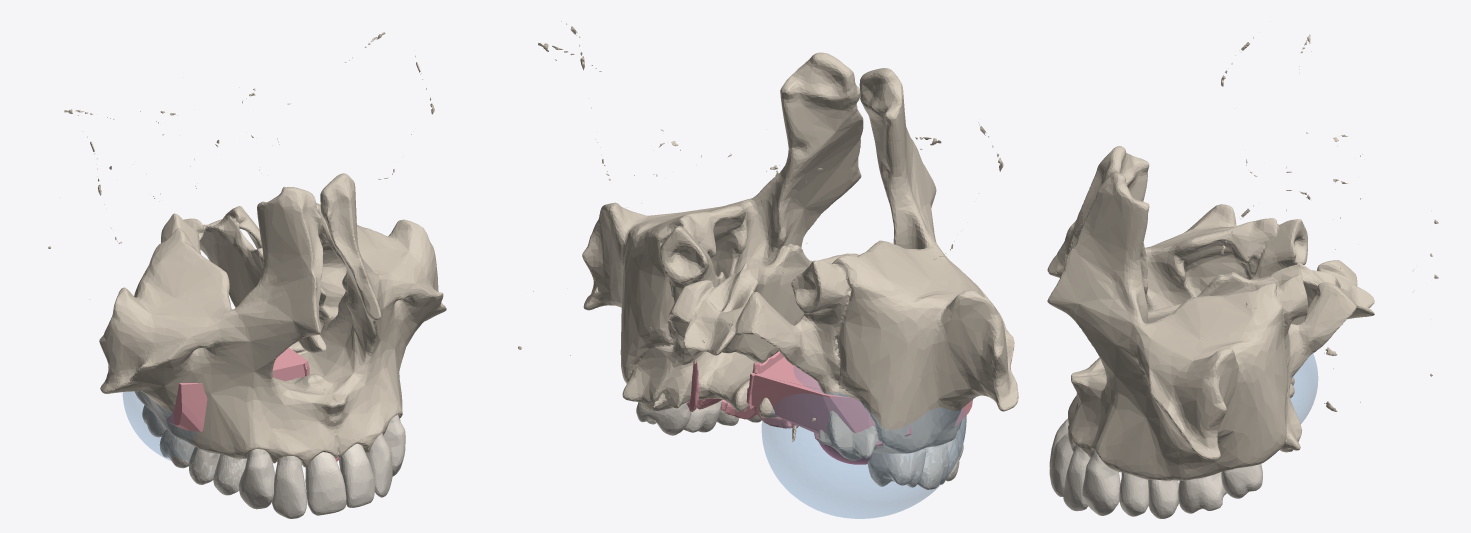
File: mec.glb
3 views of the same model, side by side, from view 1: azimuth 30°, elevation 25°; view 2: azimuth 150°, elevation 25°; view 3: azimuth 270°, elevation 25° (orthographic). The views are drawn at different scales.
Parts seen in each view (by area): view 1: bone, teeth, specimen_bone, margin, obturator, specimen_teeth, obturator_teeth, extracted_teeth; view 2: bone, margin, specimen_bone, obturator, specimen_teeth, teeth, obturator_teeth, sphenoid; view 3: bone, teeth, margin, sphenoid.
Part boxes in pixels (box(x1,y1,x2,y2)): bone: box(99, 173, 446, 467); teeth: box(239, 414, 405, 518); specimen_bone: box(100, 295, 311, 453); margin: box(123, 391, 197, 466); obturator: box(166, 347, 338, 461); specimen_teeth: box(142, 405, 219, 484); obturator_teeth: box(142, 407, 246, 494); extracted_teeth: box(213, 454, 246, 495); bone: box(582, 52, 1014, 411); margin: box(762, 366, 965, 518); specimen_bone: box(737, 345, 1018, 460); obturator: box(686, 351, 972, 446); specimen_teeth: box(867, 433, 959, 489); teeth: box(636, 400, 966, 441); obturator_teeth: box(868, 427, 963, 489); sphenoid: box(518, 21, 1003, 441); bone: box(1047, 146, 1374, 480); teeth: box(1049, 418, 1262, 518); margin: box(1290, 354, 1317, 423); sphenoid: box(1221, 34, 1438, 411).
Size of the model in its own units: 0.108 by 0.092 by 0.0904.
